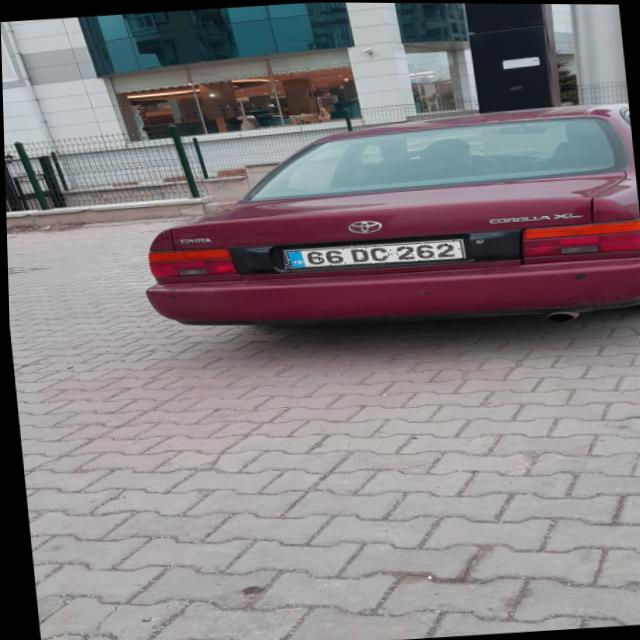license_plate: (280, 236, 464, 270)
